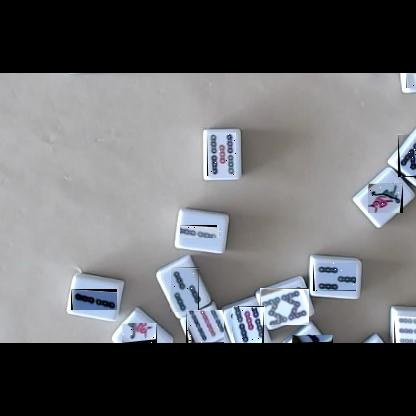1s: (368, 183, 403, 213), (122, 323, 157, 343)
2s: (71, 289, 117, 310), (181, 225, 222, 238)
3s: (170, 267, 199, 312), (313, 263, 356, 291), (406, 73, 416, 88)
5s: (207, 132, 236, 176), (232, 306, 264, 343), (292, 335, 333, 343)
7s: (394, 316, 416, 343)
8s: (260, 288, 309, 325), (398, 134, 416, 177)
9s: (186, 310, 224, 343)
